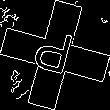P_S: (30, 26, 80, 84)
